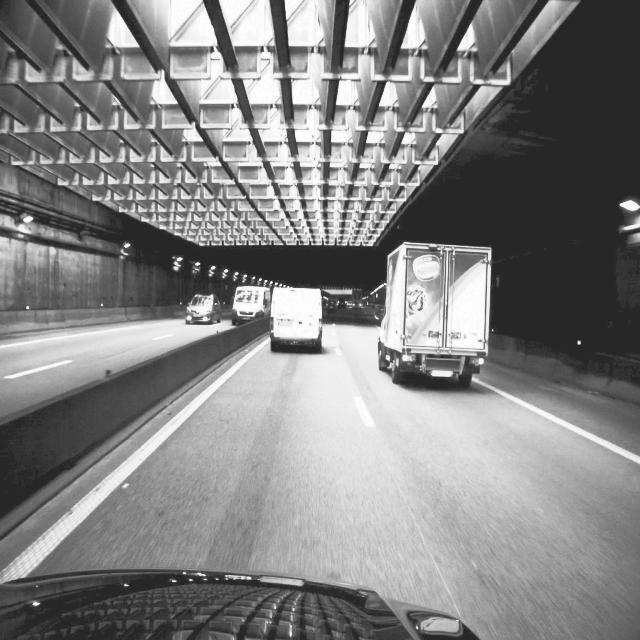Car: (268, 286, 324, 352)
Truck: (374, 242, 492, 384)
